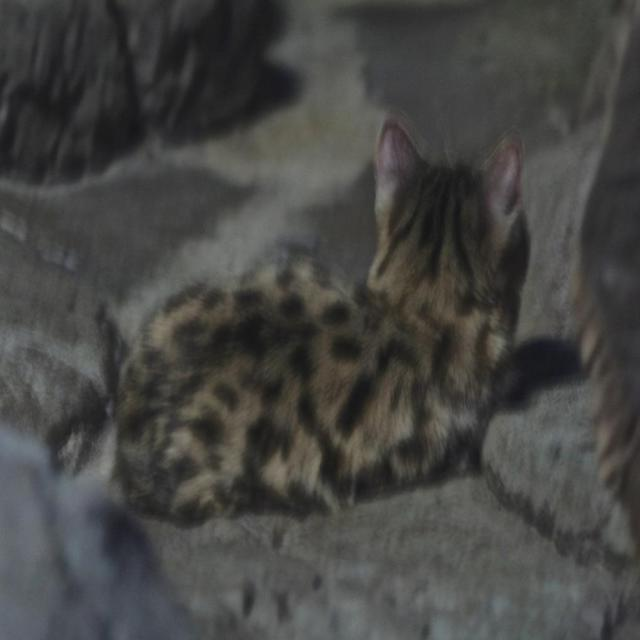Cat: (112, 111, 581, 528)
